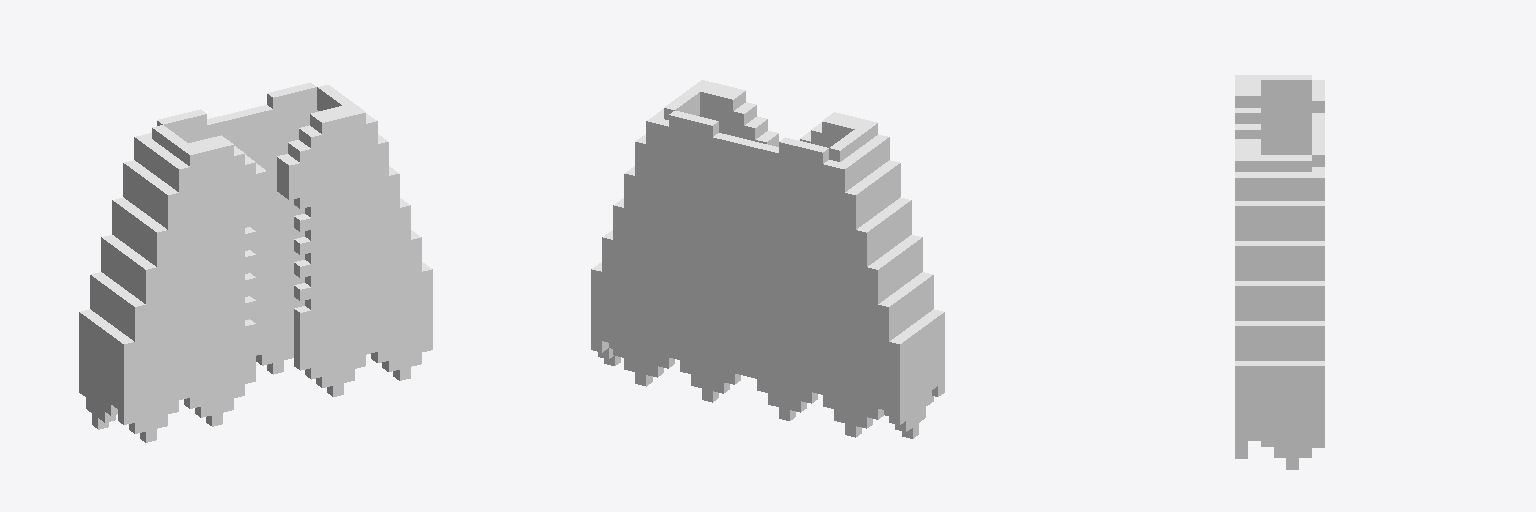
File: panache_cloak 2.obj
3 views of the same model, side by side, from view 1: azimuth 30°, elevation 25°; view 2: azimuth 150°, elevation 25°; view 3: azimuth 270°, elevation 25° (orthographic).
Size of the model in its own units: 28 by 24 by 7.